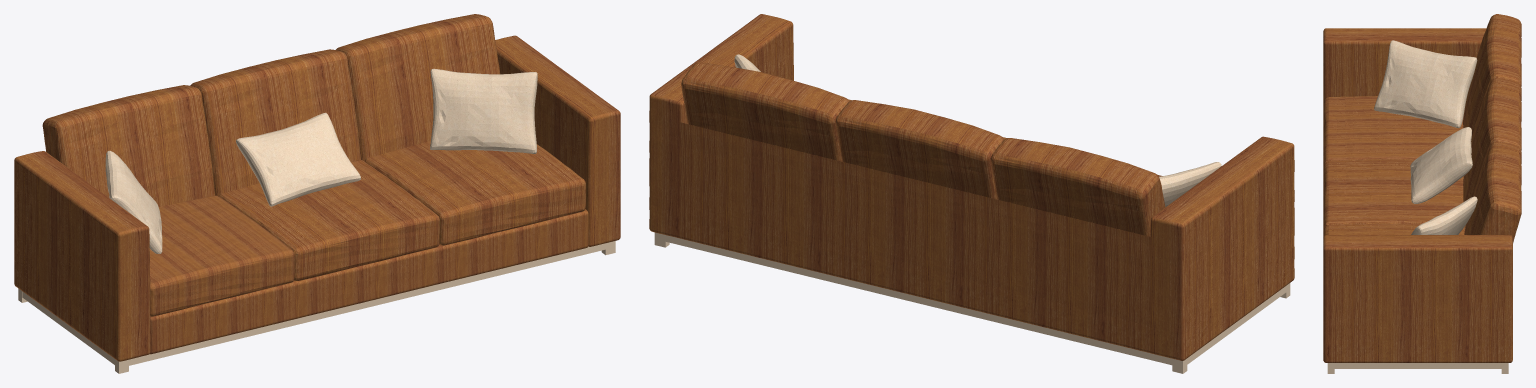
File: sofa2.obj
The picture shows the model from 3 angles, left to right: view 1: azimuth 30°, elevation 25°; view 2: azimuth 150°, elevation 25°; view 3: azimuth 270°, elevation 25°; orthographic projection. The views are drawn at different scales.
Visible parts, largest first — view 1: Object001, ChamferBox041, ChamferBox048, ChamferBox045, ChamferBox046, ChamferBox047, ChamferBox049, ChamferBox044, ChamferBox042, Box014, Box013, Box016 (+2 smaller); view 2: Object001, ChamferBox048, ChamferBox049, ChamferBox047, ChamferBox042, Box015, Box023, Box017; view 3: ChamferBox042, ChamferBox046, Object001, ChamferBox044, Box023, ChamferBox047, ChamferBox048, ChamferBox049, Box013, Box014, ChamferBox045, Box018.
Boxes of the visible parts, x1,y1,x2,y2 form: Object001: (14, 151, 150, 361); ChamferBox041: (149, 209, 588, 354); ChamferBox048: (42, 85, 215, 206); ChamferBox045: (364, 141, 585, 245); ChamferBox046: (218, 160, 439, 280); ChamferBox047: (336, 14, 500, 160); ChamferBox049: (190, 49, 361, 196); ChamferBox044: (149, 195, 294, 316); ChamferBox042: (495, 35, 620, 246); Box014: (430, 68, 537, 153); Box013: (236, 112, 360, 206); Box016: (113, 241, 615, 368); Object001: (679, 122, 1294, 360); ChamferBox048: (991, 138, 1165, 236); ChamferBox049: (835, 100, 1003, 199); ChamferBox047: (681, 62, 849, 161); ChamferBox042: (649, 14, 793, 238); Box015: (654, 232, 1189, 367); Box023: (1159, 162, 1221, 206); Box017: (1189, 287, 1283, 362); ChamferBox042: (1323, 235, 1512, 362); ChamferBox046: (1324, 159, 1465, 230); Object001: (1323, 28, 1486, 126); ChamferBox044: (1324, 96, 1463, 169); Box023: (1374, 40, 1477, 128); ChamferBox047: (1464, 141, 1521, 242); ChamferBox048: (1463, 14, 1521, 139); ChamferBox049: (1463, 78, 1521, 201); Box013: (1410, 127, 1472, 203); Box014: (1411, 196, 1477, 234); ChamferBox045: (1324, 223, 1465, 235); Box018: (1338, 363, 1497, 368).
Size of the model in its own units: 74.26 by 25.09 by 28.22.
